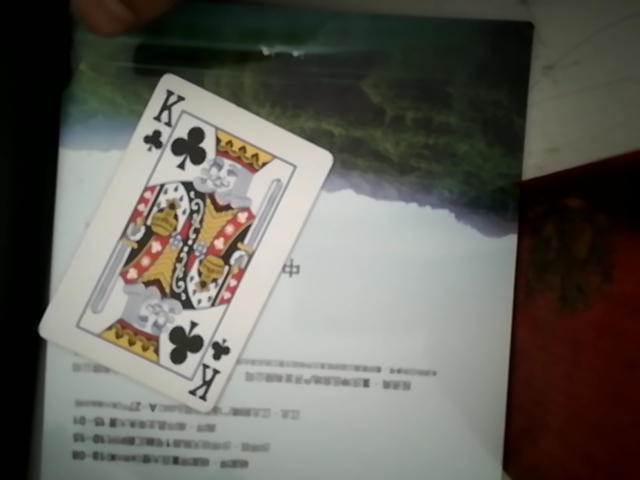mh k: (40, 73, 330, 409)
